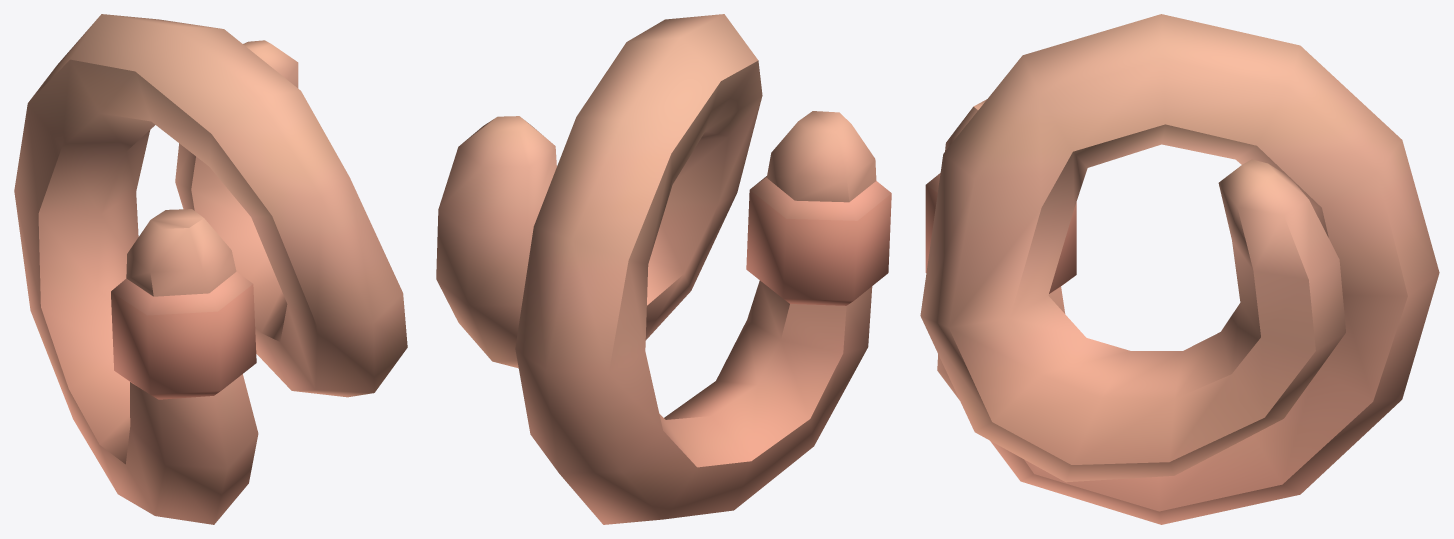
File: fishing_worm.glb
3 views of the same model, side by side, from view 1: azimuth 30°, elevation 25°; view 2: azimuth 150°, elevation 25°; view 3: azimuth 270°, elevation 25° (orthographic). The views are drawn at different scales.
Parts seen in each view (by area): view 1: fishing_worm; view 2: fishing_worm; view 3: fishing_worm.
Part boxes in pixels (x1=…): fishing_worm: x1=14, y1=14, x2=407, y2=524; fishing_worm: x1=436, y1=14, x2=891, y2=524; fishing_worm: x1=920, y1=14, x2=1439, y2=524.
Size of the model in its own units: 0.1435 by 0.2199 by 0.2023.
Materials: 1 (1 with a texture image).
